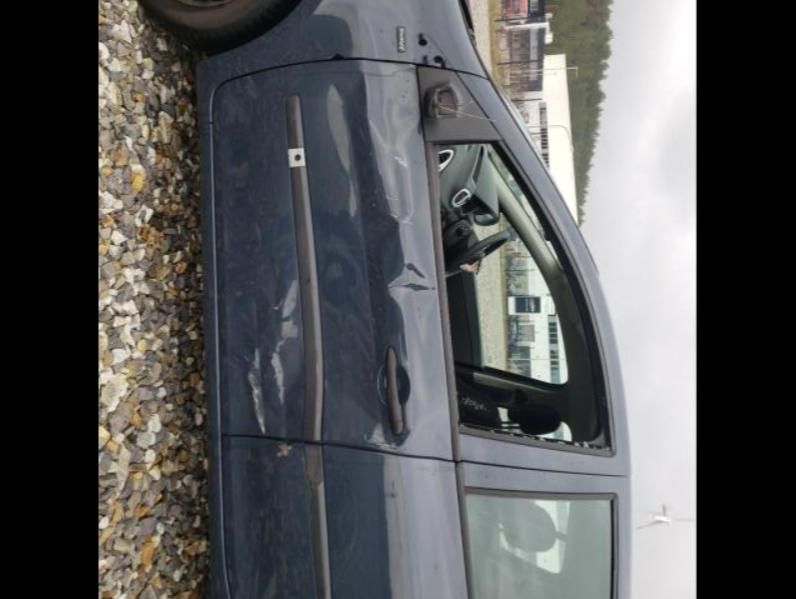Dent: (271, 65, 439, 449)
Missing part: (287, 147, 307, 168)
Paint damage: (274, 441, 295, 458)
Scratch: (247, 277, 301, 437)
broken_mirror: (412, 31, 505, 143)
